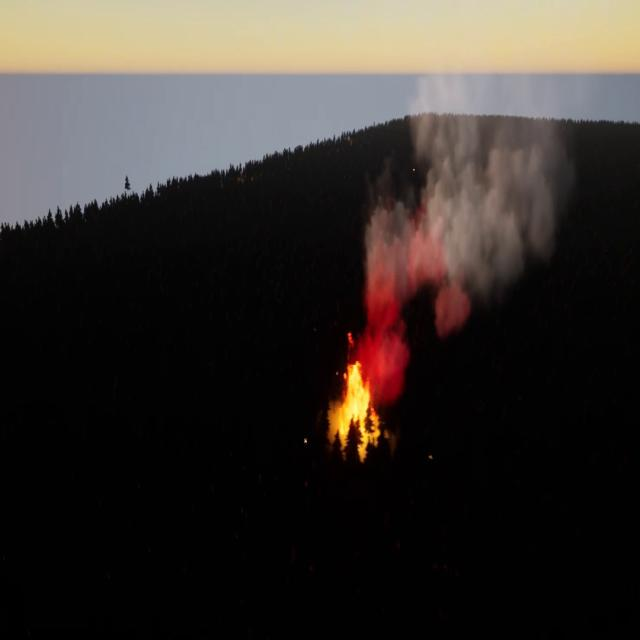fire: (326, 362, 381, 443)
smoke: (353, 67, 566, 390)
